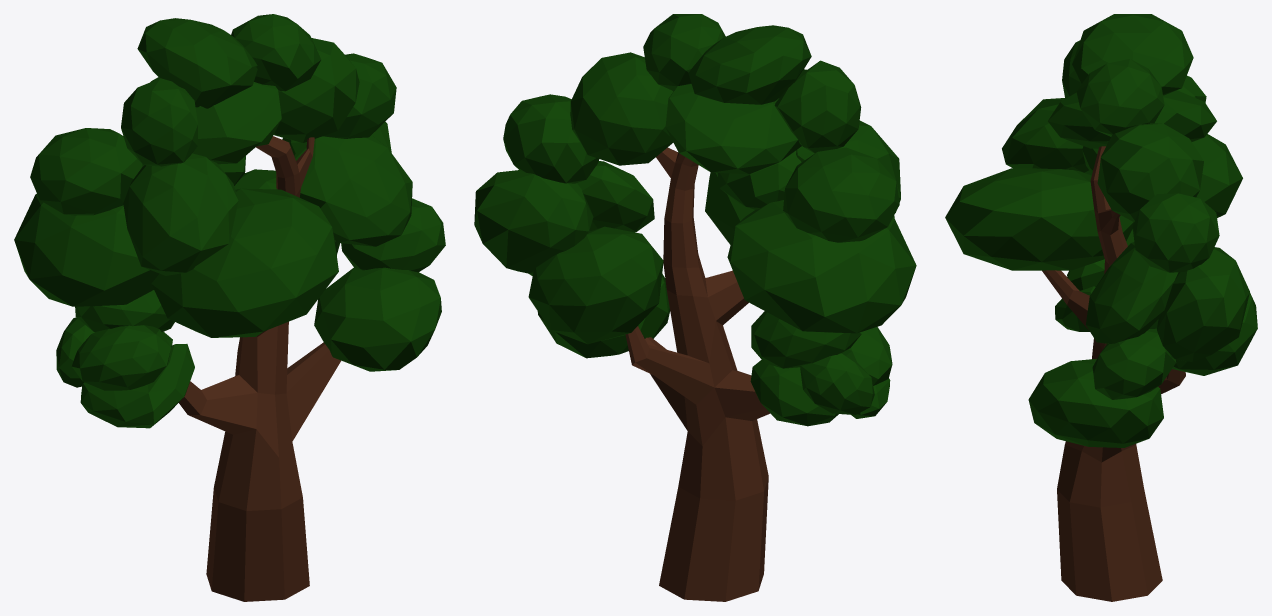
Rendered from TRE1.fbx.
3 renders of one model, left to right at view 1: azimuth 30°, elevation 25°; view 2: azimuth 150°, elevation 25°; view 3: azimuth 270°, elevation 25°, orthographic. The views are drawn at different scales.
Visible parts, largest first — view 1: Oak; view 2: Oak; view 3: Oak.
Boxes of the visible parts, x1,y1,x2,y2 form: Oak: [14, 14, 445, 601]; Oak: [474, 14, 916, 601]; Oak: [945, 14, 1257, 601].
Bounding box in the file's own units: 4352 × 5846 × 3121.
